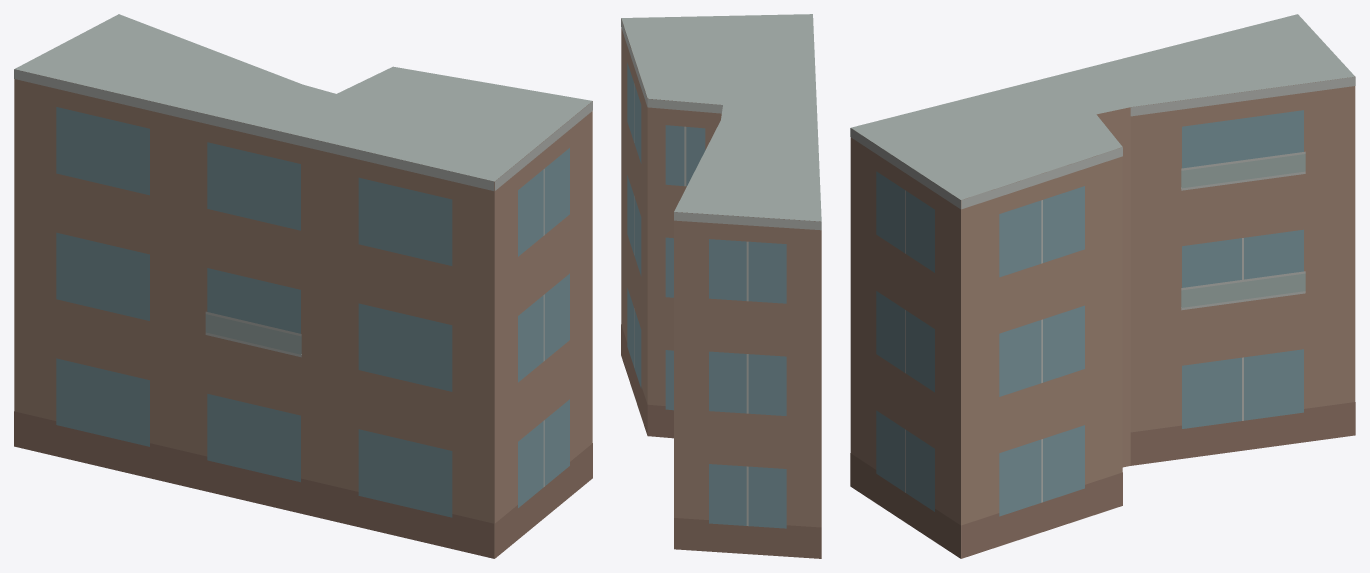
File: survey-upis-32678536.glb
3 renders of one model, left to right at view 1: azimuth 30°, elevation 25°; view 2: azimuth 150°, elevation 25°; view 3: azimuth 270°, elevation 25°, orthographic. The views are drawn at different scales.
Parts seen in each view (by area): view 1: survey-upis-32678536.tmp; view 2: survey-upis-32678536.tmp; view 3: survey-upis-32678536.tmp.
Part boxes in pixels (x1,y1,x2,y2): survey-upis-32678536.tmp: [14, 14, 592, 558]; survey-upis-32678536.tmp: [621, 14, 821, 558]; survey-upis-32678536.tmp: [850, 14, 1355, 558].
Size of the model in its own units: 10.47 by 9.4 by 12.
